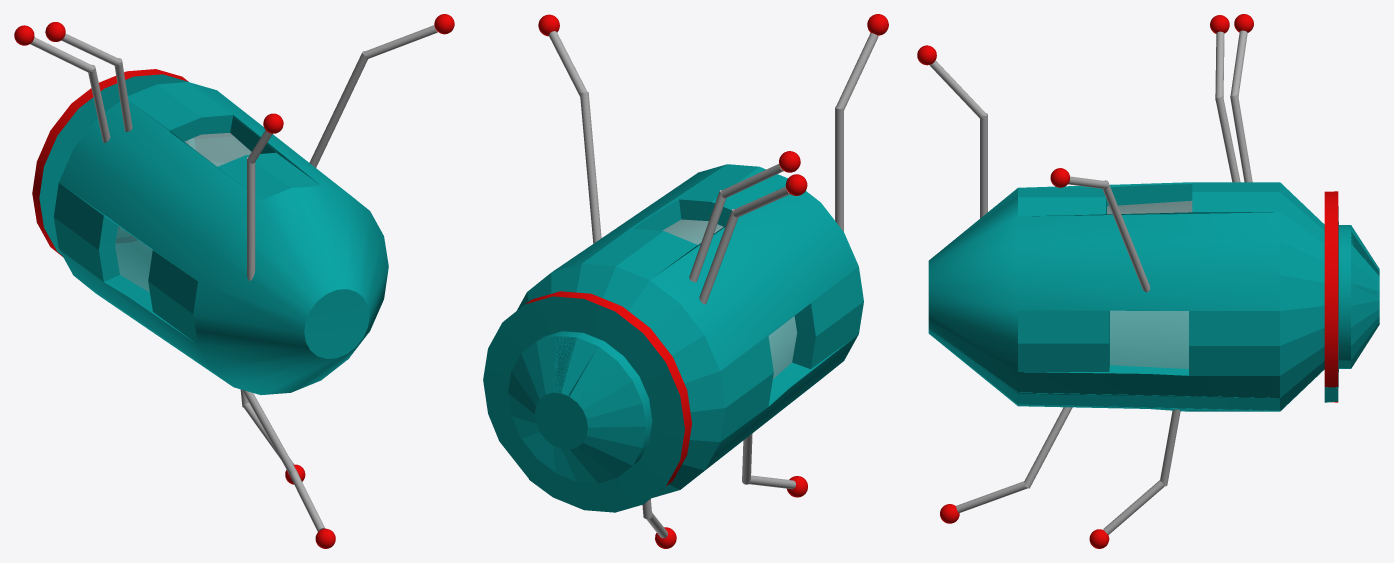
File: S2_Body_NoNose.fbx
The picture shows the model from 3 angles, left to right: view 1: azimuth 30°, elevation 25°; view 2: azimuth 150°, elevation 25°; view 3: azimuth 270°, elevation 25°; orthographic projection. The views are drawn at different scales.
Visible parts, largest first — view 1: pCylinder13; view 2: pCylinder13; view 3: pCylinder13.
Boxes of the visible parts, bbox=[...] form: pCylinder13: bbox=[14, 14, 454, 548]; pCylinder13: bbox=[483, 14, 888, 548]; pCylinder13: bbox=[917, 14, 1379, 548].
Bounding box in the file's own units: 25.38 × 32.55 × 30.37.
